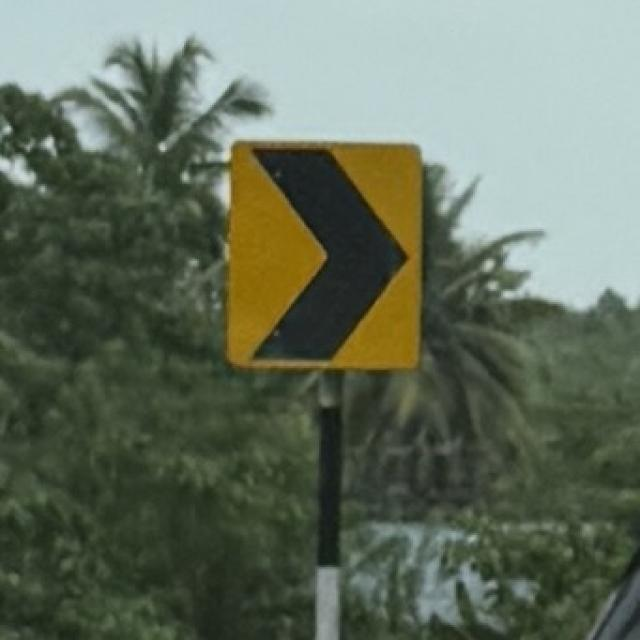TURN_RIGHT: (220, 134, 429, 373)
